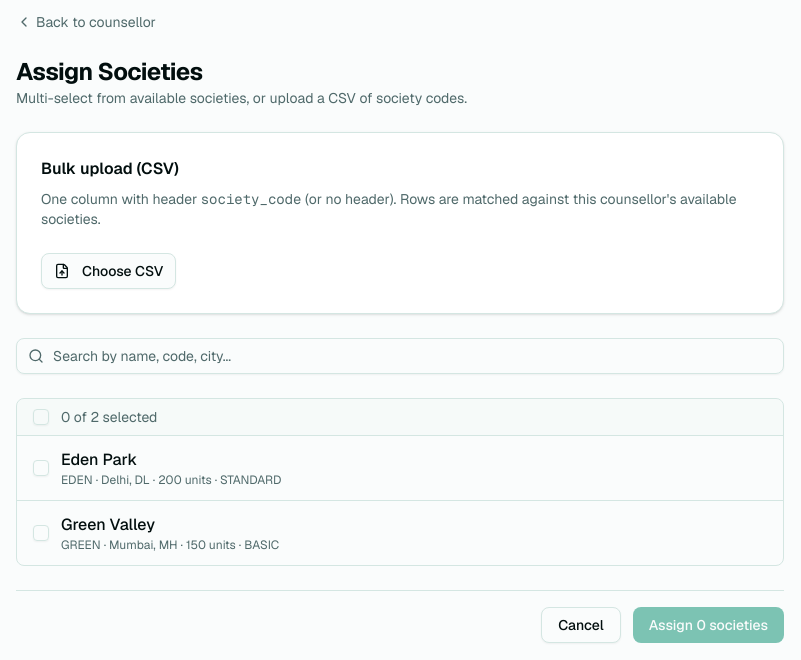
it: AssignSocietiesPage › toggles selection of a single row and updates count
Expected: the text "Eden Park" is shown, [61,449,137,470]
Note: First checkbox is "select all", next two are rows
What coordinates should you click on to do the following:
click the checkbox next to "Eden Park"
I would click on:
 (41, 468)
Its box is [33,460,49,476].
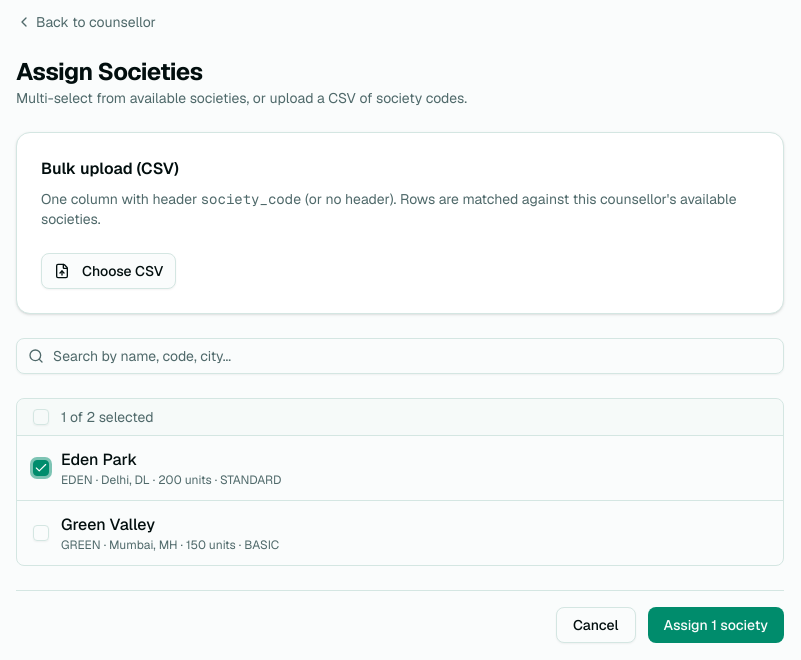
Expected: the text "1 of 2 selected" is shown, [61,407,154,427]
